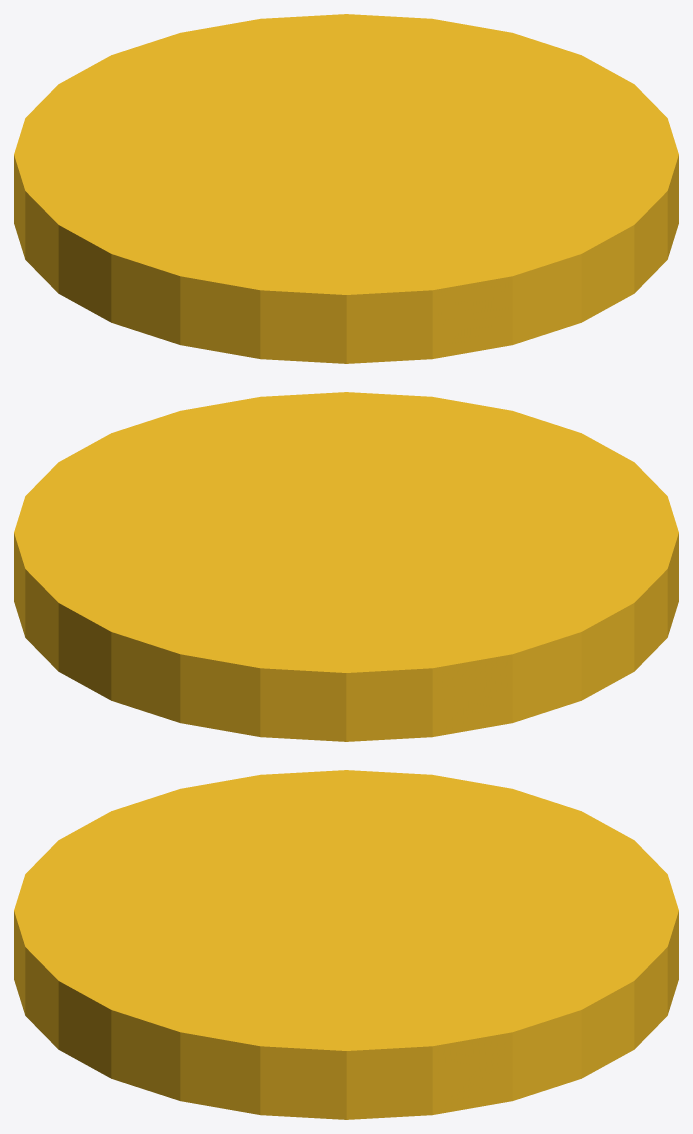
Rendered from coin3d.obj.
3 renders of one model, top to bottom at view 1: azimuth 30°, elevation 25°; view 2: azimuth 150°, elevation 25°; view 3: azimuth 270°, elevation 25°, orthographic.
Bounding box in the file's own units: 0.7 × 0.08 × 0.7.
